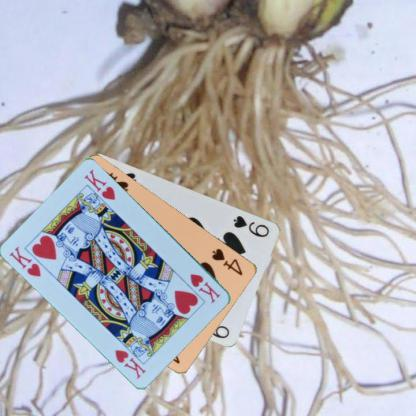4s: (209, 245, 244, 276)
9s: (231, 212, 271, 238)
Kh: (7, 244, 43, 278), (188, 271, 222, 304)
